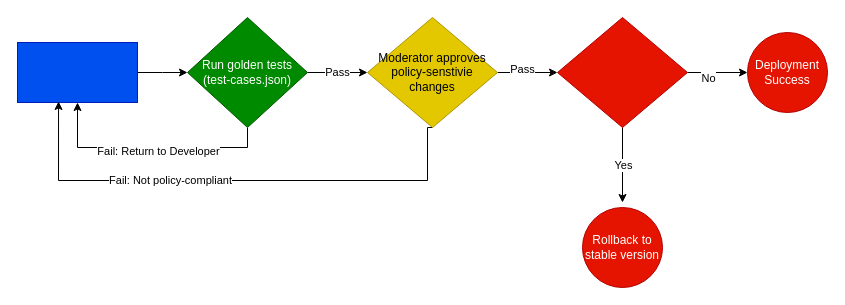
Some shapes in this 845 by 305 pixel diagram are drawn without their labels. Each missing label, with the centre of its shape:
Deployment failure?: point 622,72
Propose Change (Developer Pull Request): point 77,72
